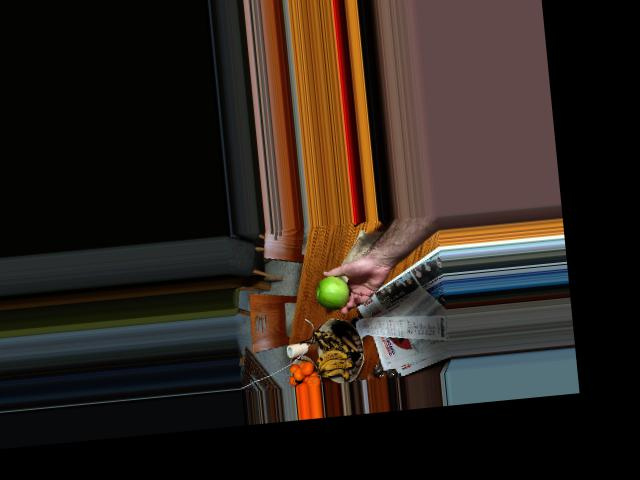apple: (316, 274, 353, 312)
